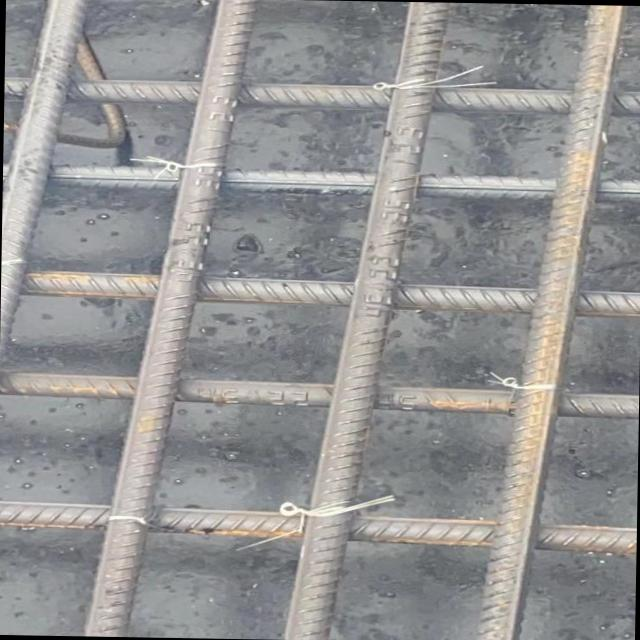ribbed bar: (77, 0, 261, 638), (278, 0, 449, 640), (468, 3, 626, 640), (0, 500, 636, 554), (0, 0, 87, 372), (0, 371, 638, 420), (16, 268, 640, 318), (2, 159, 640, 203), (4, 74, 640, 116)
